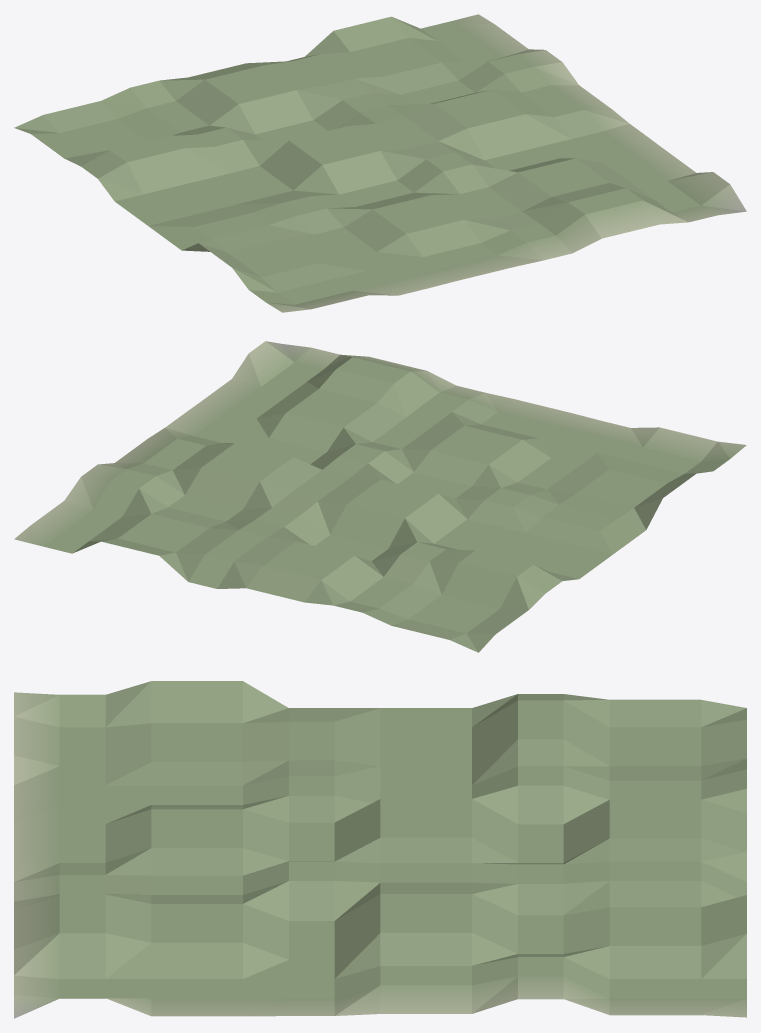
3 renders of one model, top to bottom at view 1: azimuth 30°, elevation 25°; view 2: azimuth 150°, elevation 25°; view 3: azimuth 270°, elevation 25°, orthographic. The views are drawn at different scales.
Bounding box in the file's own units: 32 × 1.35 × 32.
